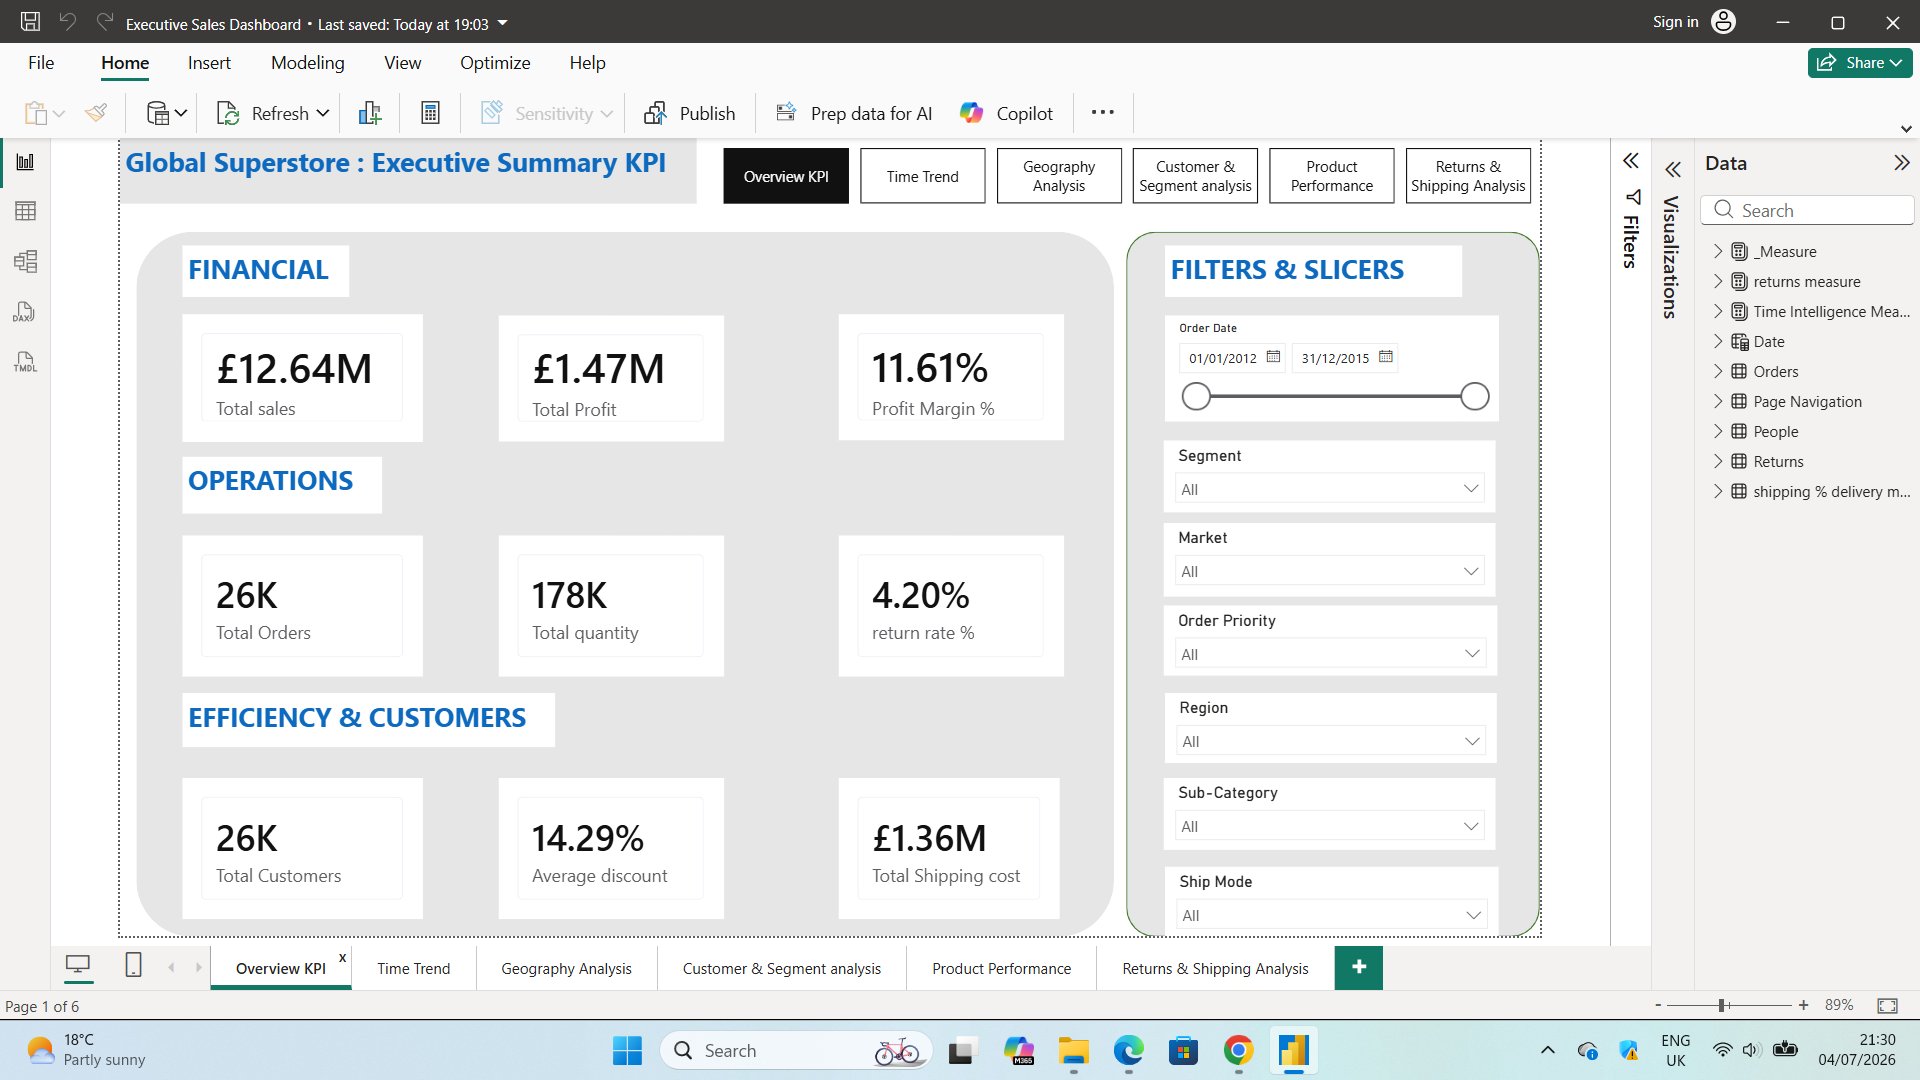

The dashboard page shown, as its layout file describes it:
{"tool":"powerbi","page":{"name":"Overview KPI","canvas":[1280,720],"ordinal":0},"visuals":[{"type":"shape","box":[14.7,84.4,881.7,635.9],"z":0},{"type":"cardVisual","fields":{"Data":["_Measure.Total sales"]},"box":[56.3,159,216.4,114.9],"z":1000},{"type":"textbox","box":[0,0,520.1,59.6],"z":2000},{"type":"cardVisual","fields":{"Data":["_Measure.Total Profit"]},"box":[341.2,160.2,203,113.7],"z":3000},{"type":"cardVisual","fields":{"Data":["_Measure.Profit Margin %"]},"box":[648.1,159,203,113.7],"z":4000},{"type":"cardVisual","fields":{"Data":["_Measure.Total Orders"]},"box":[56.3,358.3,216.4,127.2],"z":5000},{"type":"cardVisual","fields":{"Data":["_Measure.Total quantity"]},"box":[341.2,358.3,203,127.2],"z":6000},{"type":"cardVisual","fields":{"Data":["returns measure.return rate %"]},"box":[648.1,358.3,203,127.2],"z":7000},{"type":"cardVisual","fields":{"Data":["_Measure.Total Customers"]},"box":[56.3,577.2,216.4,127.2],"z":8000},{"type":"cardVisual","fields":{"Data":["_Measure.Average discount"]},"box":[341.2,577.2,203,127.2],"z":9000},{"type":"cardVisual","fields":{"Data":["_Measure.Total Shipping cost"]},"box":[648.1,577.2,199.3,127.2],"z":10000},{"type":"textbox","box":[56.3,96.6,150.4,46.5],"z":11000},{"type":"textbox","box":[56.3,287.4,179.8,51.4],"z":12000},{"type":"textbox","box":[56.3,500.1,336.3,48.9],"z":13000},{"type":"shape","box":[907.3,84.4,373,635.9],"z":14000},{"type":"textbox","box":[942.8,96.6,267.8,46.5],"z":15000},{"type":"slicer","fields":{"Values":["Orders.Order Date"]},"box":[942.8,160.2,300.8,95.4],"z":16000},{"type":"slicer","fields":{"Values":["Orders.Region"]},"box":[942.8,500.1,299.6,63.6],"z":17000},{"type":"slicer","fields":{"Values":["Orders.Segment"]},"box":[941.6,272.7,299.6,64.8],"z":18000},{"type":"slicer","fields":{"Values":["Orders.Order Priority"]},"box":[941.6,421.9,300.8,63.6],"z":19000},{"type":"slicer","fields":{"Values":["Orders.Ship Mode"]},"box":[942.8,656.7,300.8,63.6],"z":20000},{"type":"slicer","fields":{"Values":["Orders.Sub-Category"]},"box":[941.6,577.2,299.6,64.8],"z":21000},{"type":"slicer","fields":{"Values":["Orders.Market"]},"box":[941.6,347.3,299.6,66],"z":22000},{"type":"pageNavigator","box":[544.9,8.7,728.6,50.9],"z":23000}]}

Visuals, with their boxes on the page's 1280x720 design canvas (x1, y1, x2, y2). These are canvas units, not pixel positions in the 1920x1080 screenshot, which may show the page scaled, cropped or inside an application window:
shape: bbox=(15, 84, 896, 720)
cardVisual - _Measure.Total sales: bbox=(56, 159, 273, 274)
textbox: bbox=(0, 0, 520, 60)
cardVisual - _Measure.Total Profit: bbox=(341, 160, 544, 274)
cardVisual - _Measure.Profit Margin %: bbox=(648, 159, 851, 273)
cardVisual - _Measure.Total Orders: bbox=(56, 358, 273, 486)
cardVisual - _Measure.Total quantity: bbox=(341, 358, 544, 486)
cardVisual - returns measure.return rate %: bbox=(648, 358, 851, 486)
cardVisual - _Measure.Total Customers: bbox=(56, 577, 273, 704)
cardVisual - _Measure.Average discount: bbox=(341, 577, 544, 704)
cardVisual - _Measure.Total Shipping cost: bbox=(648, 577, 847, 704)
textbox: bbox=(56, 97, 207, 143)
textbox: bbox=(56, 287, 236, 339)
textbox: bbox=(56, 500, 393, 549)
shape: bbox=(907, 84, 1280, 720)
textbox: bbox=(943, 97, 1211, 143)
slicer - Orders.Order Date: bbox=(943, 160, 1244, 256)
slicer - Orders.Region: bbox=(943, 500, 1242, 564)
slicer - Orders.Segment: bbox=(942, 273, 1241, 338)
slicer - Orders.Order Priority: bbox=(942, 422, 1242, 486)
slicer - Orders.Ship Mode: bbox=(943, 657, 1244, 720)
slicer - Orders.Sub-Category: bbox=(942, 577, 1241, 642)
slicer - Orders.Market: bbox=(942, 347, 1241, 413)
pageNavigator: bbox=(545, 9, 1274, 60)
